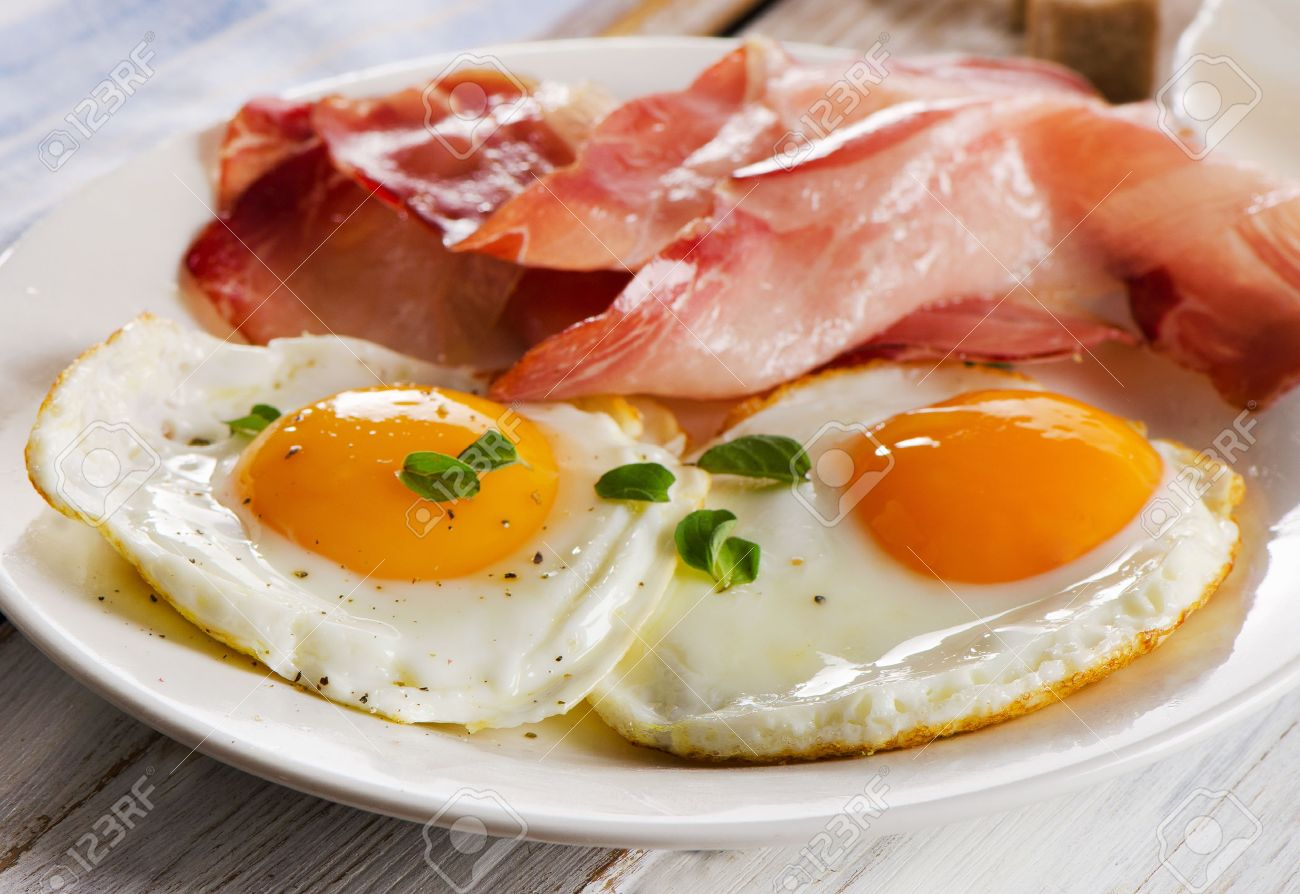fried egg: (97, 330, 1167, 710)
